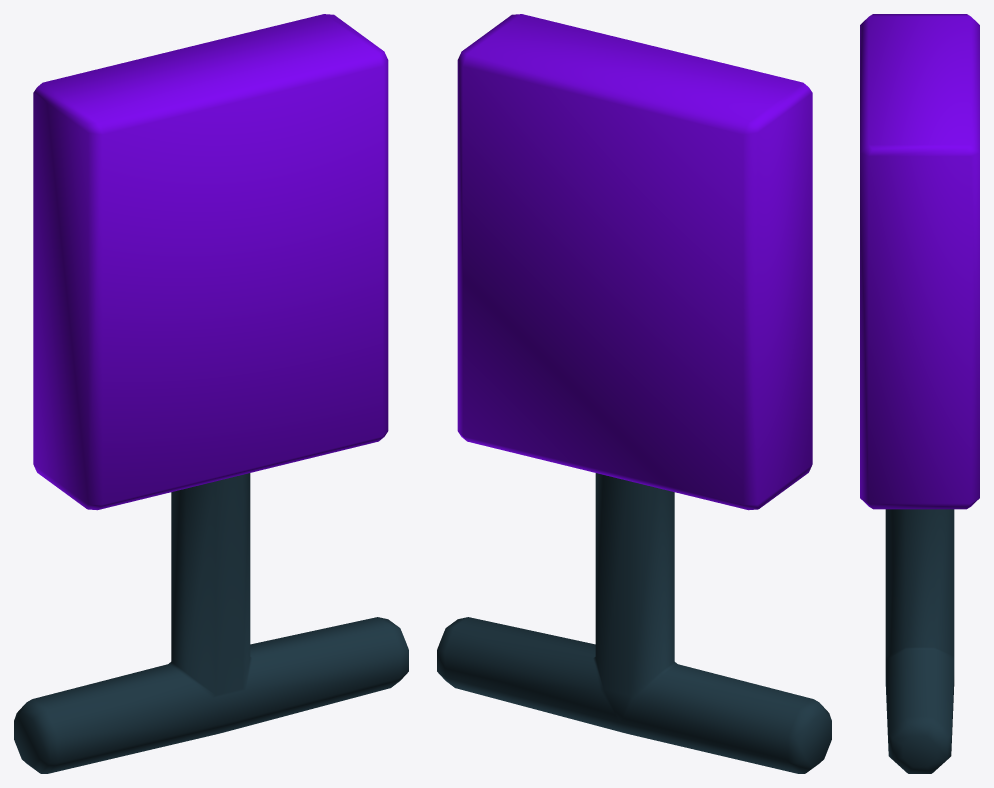
File: Still_Blocker.fbx
3 renders of one model, left to right at view 1: azimuth 30°, elevation 25°; view 2: azimuth 150°, elevation 25°; view 3: azimuth 270°, elevation 25°, orthographic. The views are drawn at different scales.
Parts seen in each view (by area): view 1: still purple 1; view 2: still purple 1; view 3: still purple 1.
Part boxes in pixels (x1,y1,x2,y2): still purple 1: (14,14,408,773); still purple 1: (437,14,831,773); still purple 1: (860,14,979,773).
Size of the model in its own units: 97.62 by 165 by 29.17.
